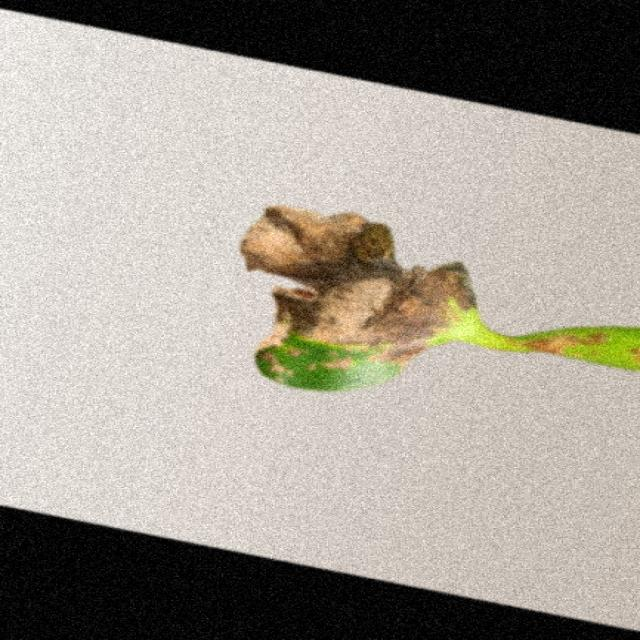daun berpenyakit karat: (240, 206, 638, 391)
